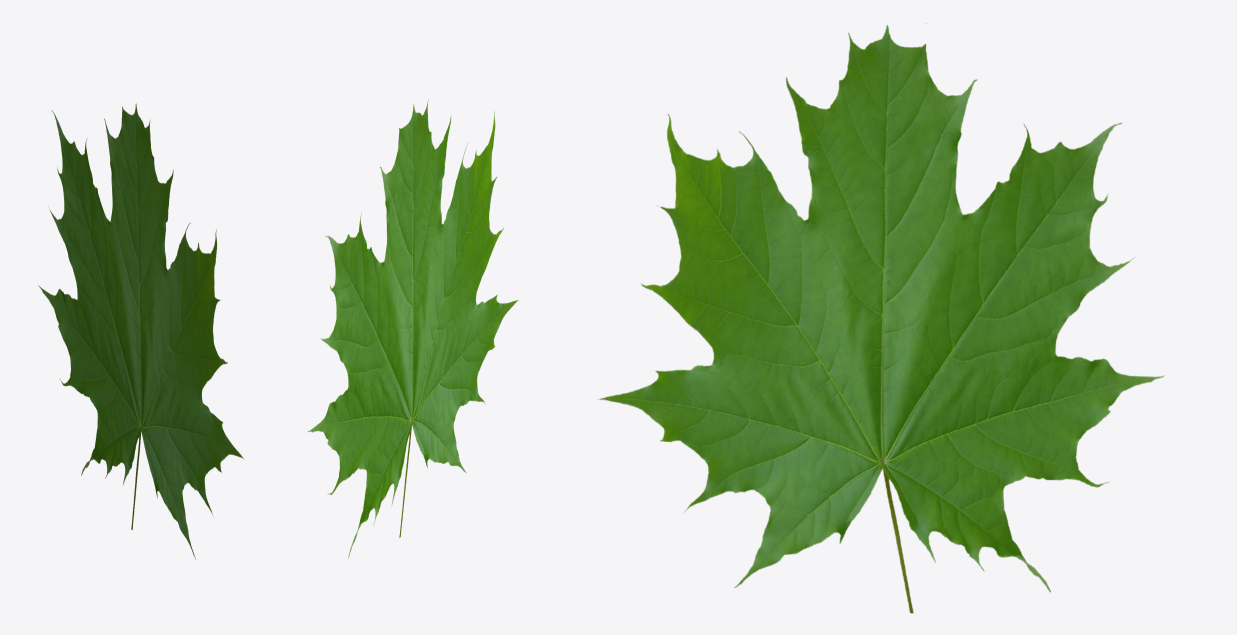
The model's file is leaf.glb.
3 views of the same model, side by side, from view 1: azimuth 30°, elevation 25°; view 2: azimuth 150°, elevation 25°; view 3: azimuth 270°, elevation 25° (orthographic). The views are drawn at different scales.
Parts seen in each view (by area): view 1: Leaf; view 2: Leaf; view 3: Leaf.
Part boxes in pixels (x1=…): Leaf: x1=38, y1=103, x2=243, y2=559; Leaf: x1=307, y1=100, x2=518, y2=558; Leaf: x1=598, y1=25, x2=1164, y2=613.
Bounding box in the file's own units: 0.00702 × 0.3051 × 0.3052.
1 material, 1 textured.
